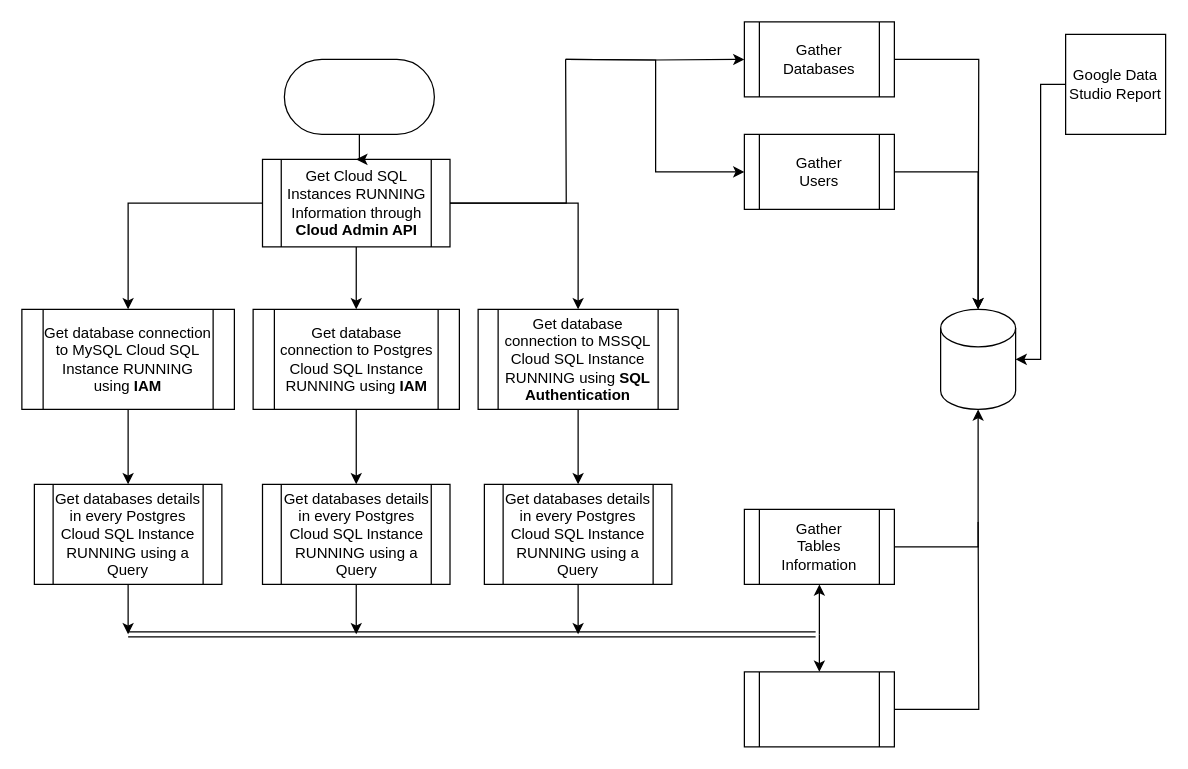
Some shapes in this 1188 by 769 pixel diagram are drawn without their labels. The box of each missing label's shape, as (x1, y1, x2, y2) in pixels:
Bucket: (939, 308, 1016, 409)
Gather Users & Grants: (743, 671, 894, 747)
INICIO: (283, 58, 434, 134)
